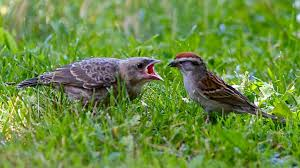hsparrow: (169, 53, 281, 120)
